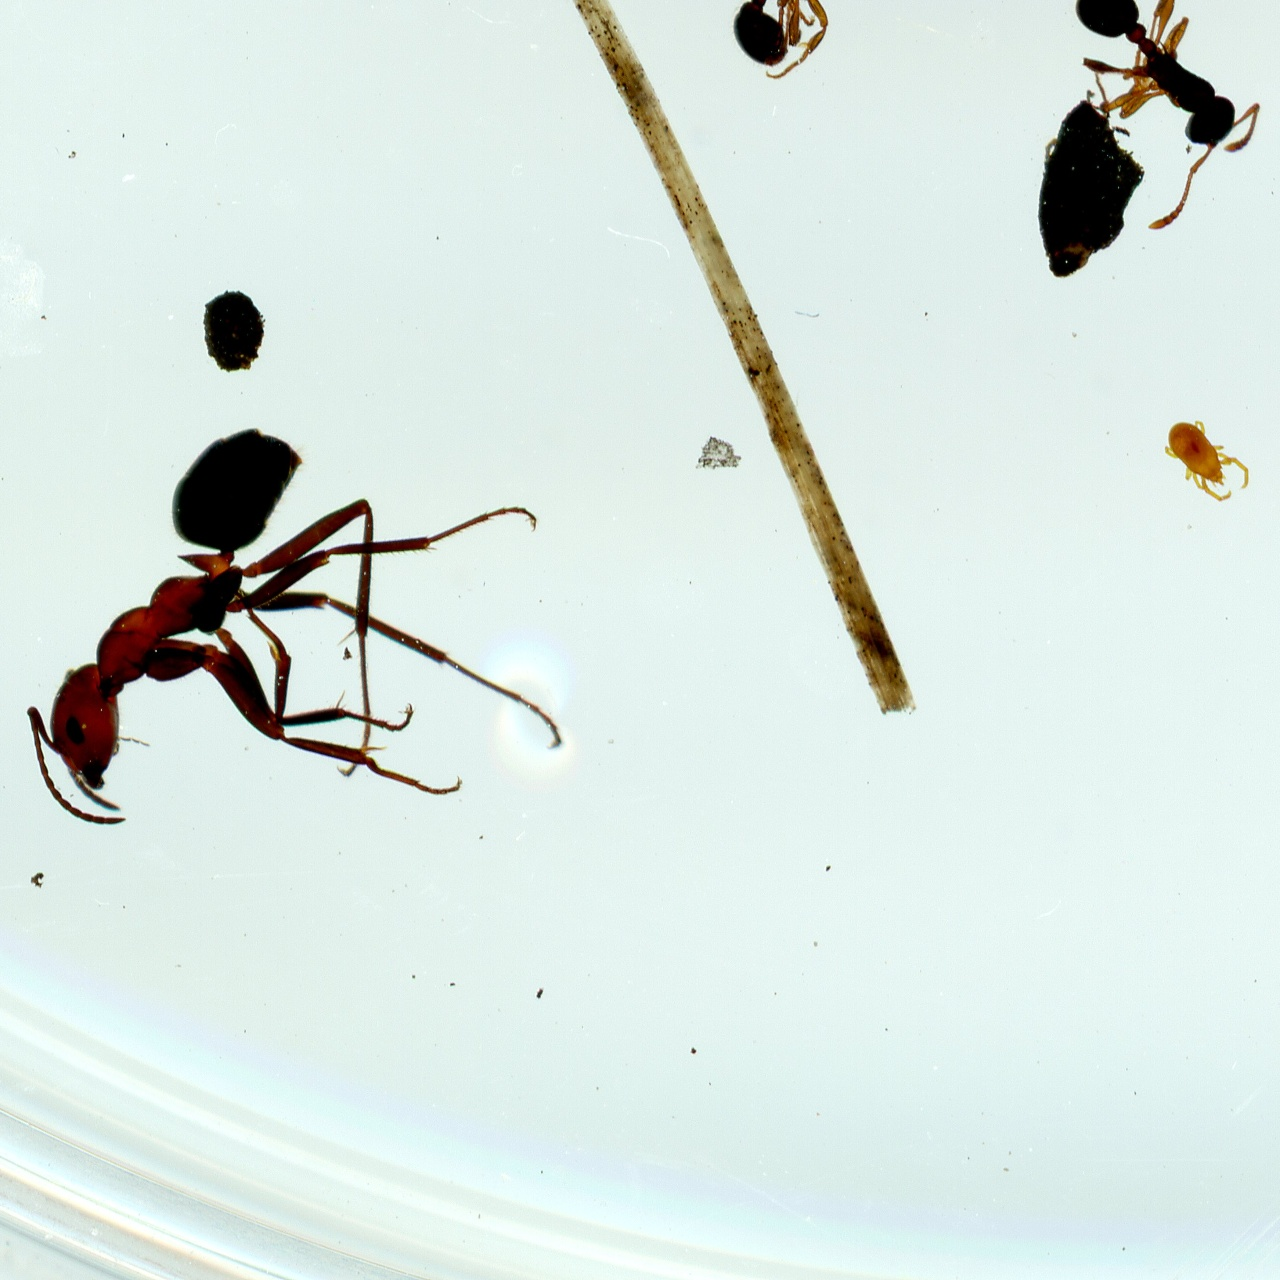arthropod: (24, 414, 573, 831), (997, 0, 1280, 249), (667, 0, 919, 116), (1148, 401, 1262, 520)
